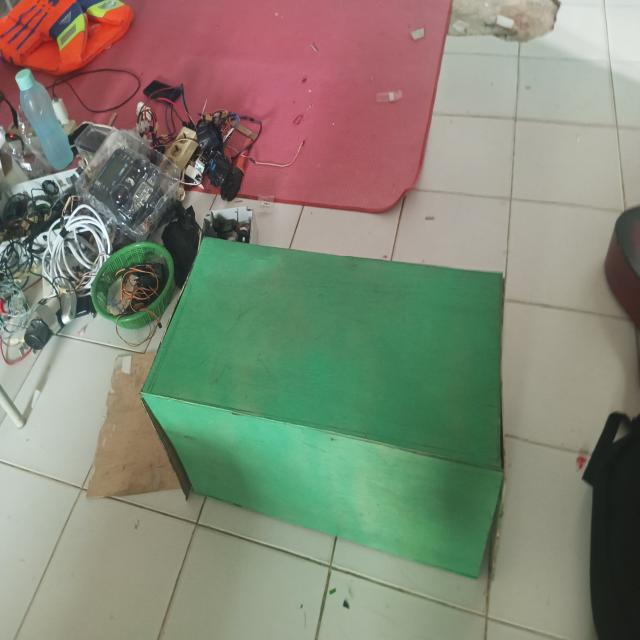green_box: (122, 191, 540, 618)
